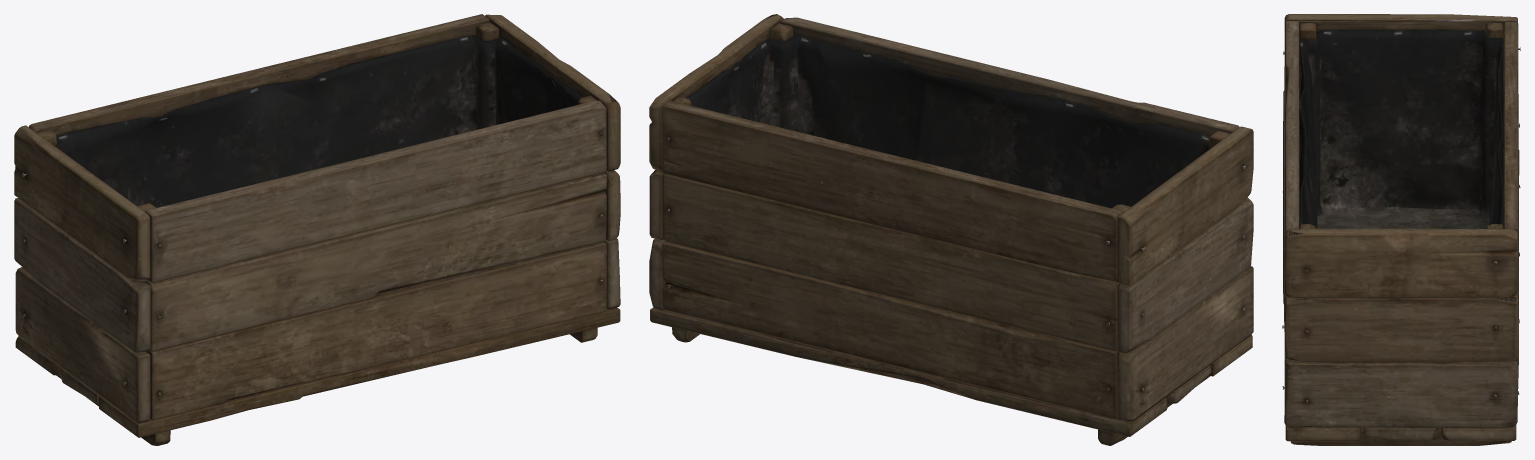
Rendered from planter_box_01_lod1.glb.
The picture shows the model from 3 angles, left to right: view 1: azimuth 30°, elevation 25°; view 2: azimuth 150°, elevation 25°; view 3: azimuth 270°, elevation 25°; orthographic projection. The views are drawn at different scales.
Parts seen in each view (by area): view 1: planter_box_01; view 2: planter_box_01; view 3: planter_box_01.
Boxes of the visible parts, <box> form: planter_box_01: <box>14,14,620,445</box>; planter_box_01: <box>649,14,1253,445</box>; planter_box_01: <box>1282,14,1520,445</box>.
Bounding box in the file's own units: 0.9126 × 0.4249 × 0.4137.
Materials: 1 (1 with a texture image).
